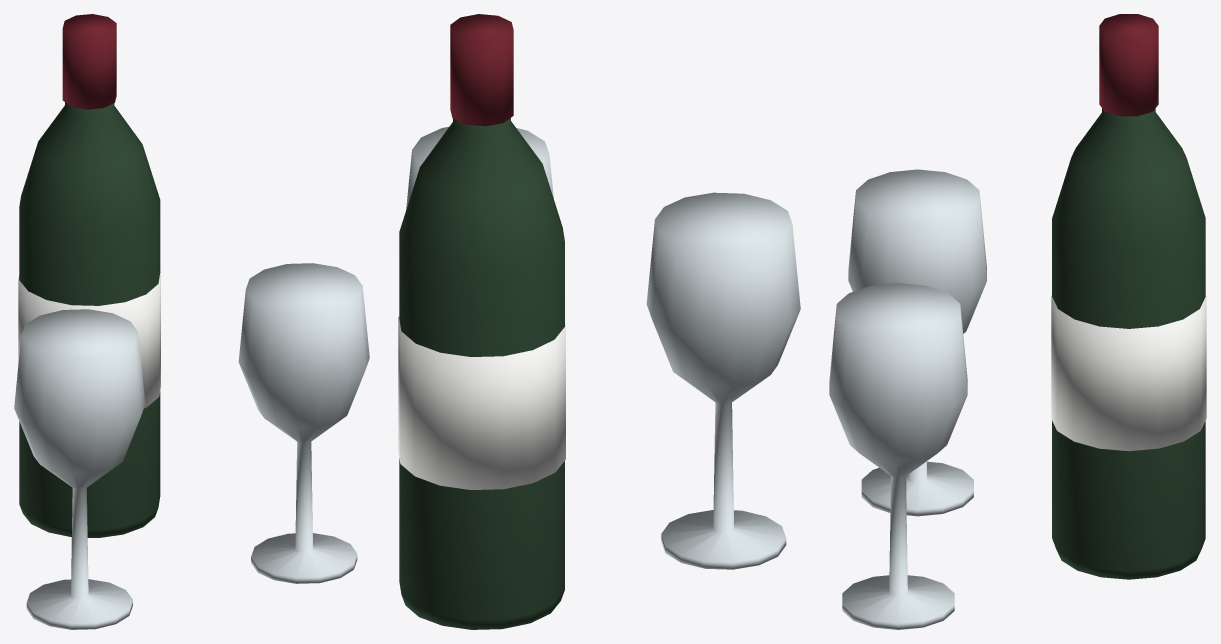
File: wineGlasses.glb
3 renders of one model, left to right at view 1: azimuth 30°, elevation 25°; view 2: azimuth 150°, elevation 25°; view 3: azimuth 270°, elevation 25°, orthographic. The views are drawn at different scales.
Visible parts, largest first — view 1: wineGlasses; view 2: wineGlasses; view 3: wineGlasses.
Part boxes in pixels (x1,y1,x2,y2): wineGlasses: (14, 14, 369, 629); wineGlasses: (398, 14, 800, 629); wineGlasses: (829, 14, 1206, 629).
Size of the model in its own units: 0.214 by 0.3005 by 0.1966.
